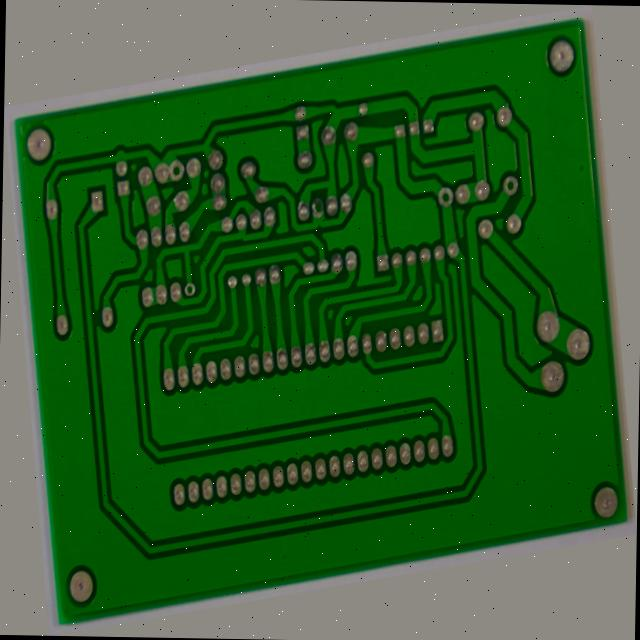missing_hole: (455, 186, 481, 216), (528, 185, 550, 216), (173, 94, 193, 122), (321, 172, 340, 198), (175, 242, 191, 261)
